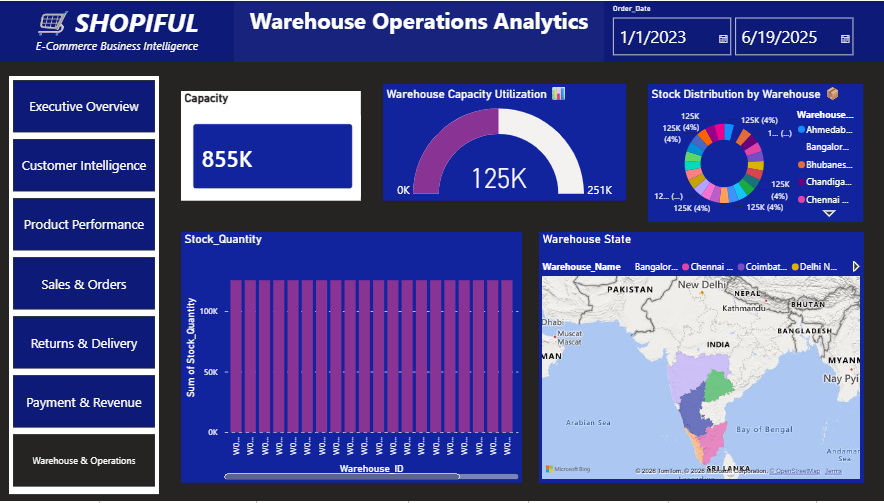

The page's visual inventory and layout, read from the dashboard file:
{"tool":"powerbi","page":{"name":"Warehouse & Operations","canvas":[1280,720],"ordinal":6},"visuals":[{"type":"textbox","box":[0,0,341.3,87.8],"z":0},{"type":"pageNavigator","box":[17.3,108,216,601.9],"z":1000},{"type":"slicer","fields":{"Values":["cartnova orders.Order_Date"]},"box":[873.9,0,406.1,87.8],"z":2000},{"type":"cardVisual","title":"Capacity","fields":{"Data":["Sum(cartnova warehouse.Capacity)"]},"box":[265,129.6,259.2,158.4],"z":3000},{"type":"columnChart","title":"Stock_Quantity ","fields":{"Y":["Sum(cartnova products.Stock_Quantity)"],"Category":["cartnova warehouse.Warehouse_ID"]},"box":[265,332.6,491,361.4],"z":4000},{"type":"filledMap","title":"Warehouse State","fields":{"Category":["cartnova customers.State"],"Series":["cartnova warehouse.Warehouse_Name"]},"box":[780.5,332.6,466.6,361.4],"z":5000},{"type":"textbox","box":[341.3,0,532.8,87.8],"z":6000},{"type":"gauge","title":"Warehouse Capacity Utilization 📊","fields":{"TargetValue":["Sum(cartnova warehouse.Capacity)"],"Y":["Sum(cartnova products.Stock_Quantity)"]},"box":[555.8,119.5,350,168],"z":7000},{"type":"donutChart","title":"Stock Distribution by Warehouse 📦","fields":{"Category":["cartnova warehouse.Warehouse_Name"],"Y":["Sum(cartnova products.Stock_Quantity)"]},"box":[937.4,119.5,309.6,198.7],"z":8000}]}

Visuals, with their boxes on the page's 1280x720 design canvas (x1, y1, x2, y2). These are canvas units, not pixel positions in the 884x503 screenshot, which may show the page scaled, cropped or inside an application window:
textbox: 0 0 341 88
pageNavigator: 17 108 233 710
slicer - cartnova orders.Order_Date: 874 0 1280 88
"Capacity" cardVisual: 265 130 524 288
"Stock_Quantity " columnChart: 265 333 756 694
"Warehouse State" filledMap: 780 333 1247 694
textbox: 341 0 874 88
"Warehouse Capacity Utilization 📊" gauge: 556 120 906 288
"Stock Distribution by Warehouse 📦" donutChart: 937 120 1247 318
